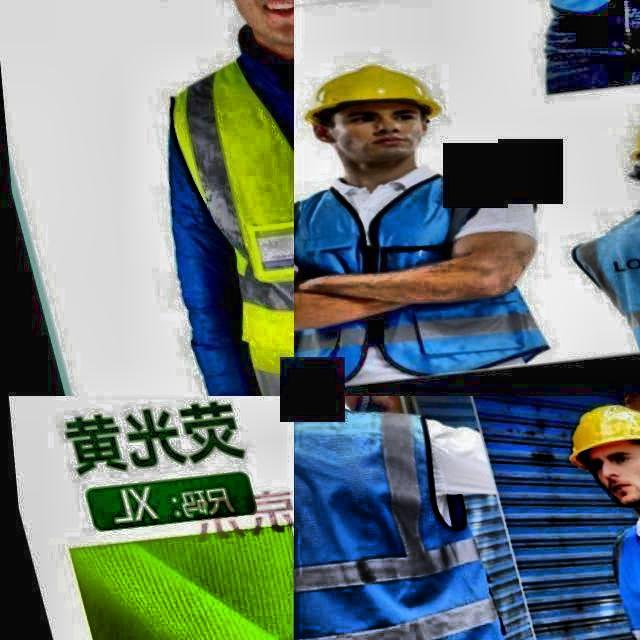safety_jacket: (294, 155, 537, 396), (153, 21, 294, 396), (294, 396, 500, 640), (585, 178, 640, 396)
